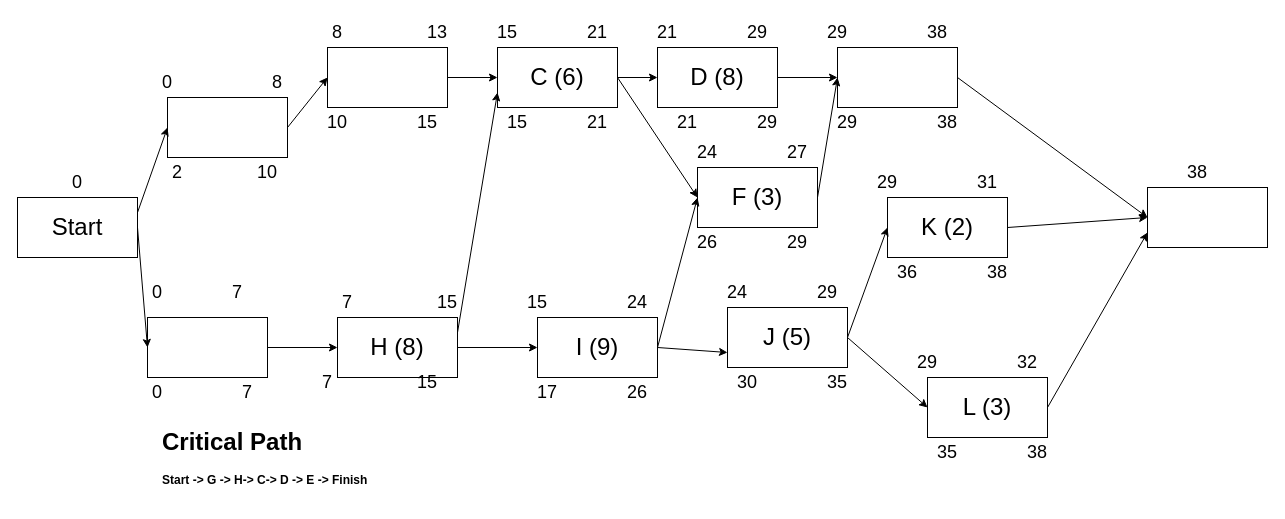
The diagram is 1285 pixels wide and 519 high, and some of its shapes have lost their labels. Each missing label, with the centre of its shape:
"A (8)" goes at point 227,127.
"B (5)" goes at point 387,77.
"E (9)" goes at point 897,77.
"Finish" goes at point 1207,217.
"G (7)" goes at point 207,347.
